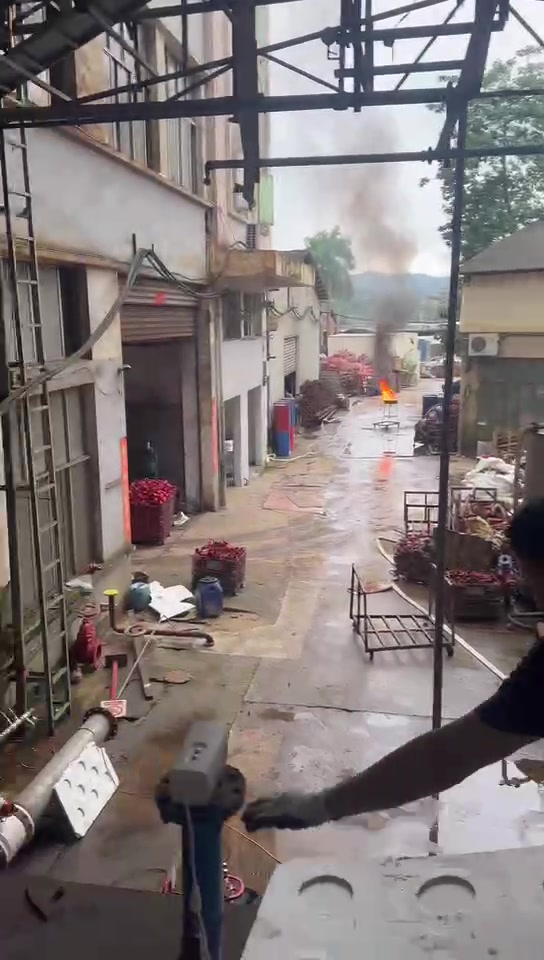fire: (378, 379, 397, 400)
